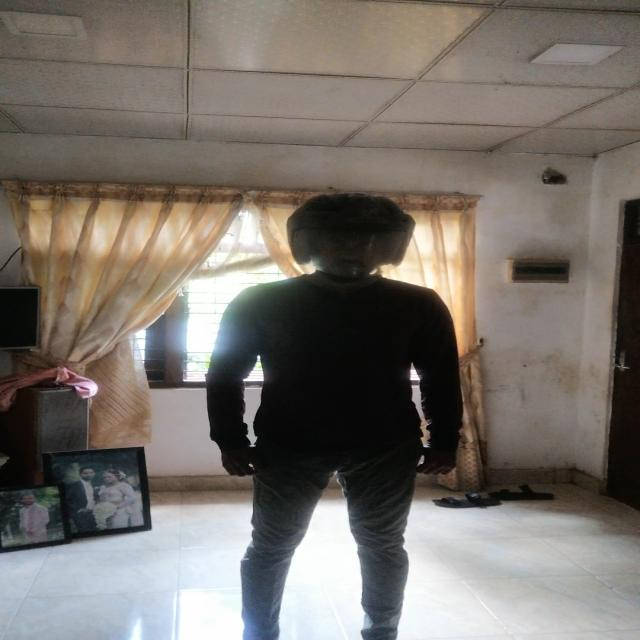Helmet_Wearer: (268, 188, 405, 288)
Person: (210, 189, 462, 640)
